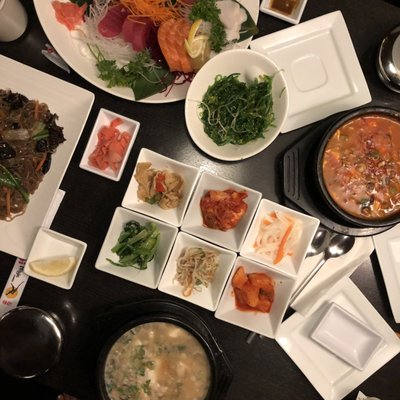curry: (200, 72, 275, 146), (110, 219, 160, 270), (187, 0, 228, 52)
sushi: (184, 48, 289, 162), (79, 108, 141, 182)
